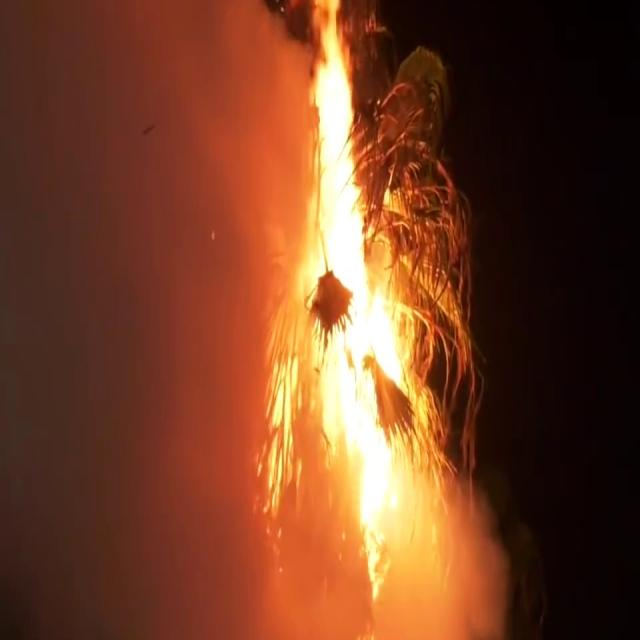fire: (285, 0, 411, 640)
smoke: (0, 0, 235, 640)
